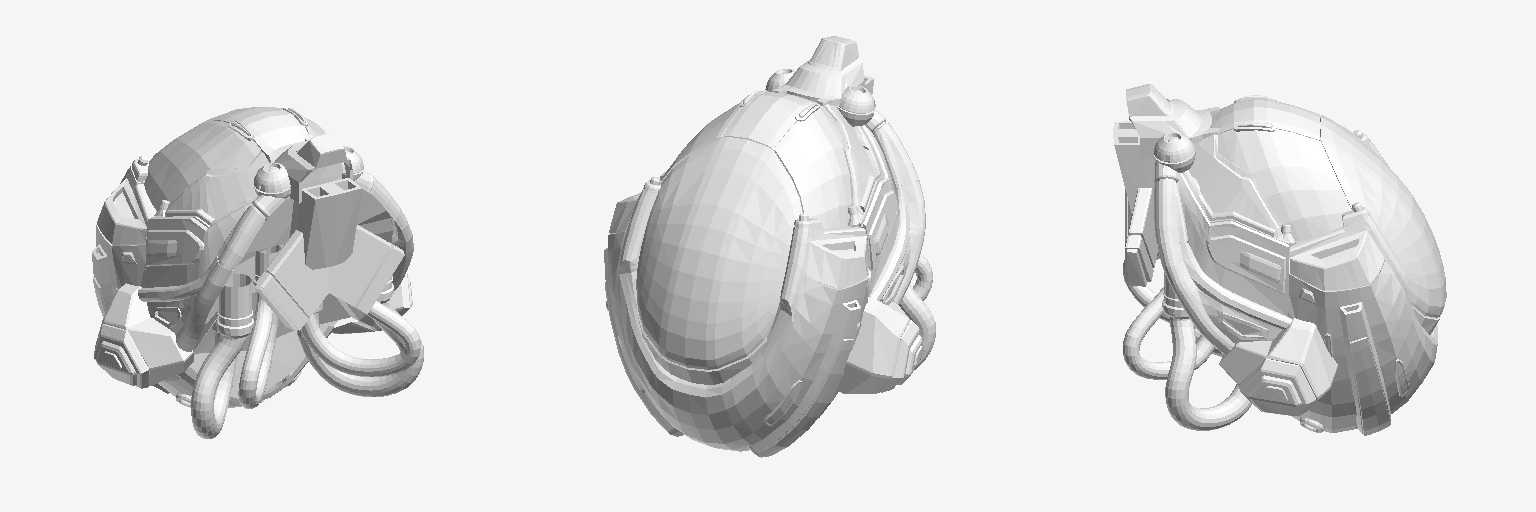
Rendered from helmet.obj.
The picture shows the model from 3 angles: view 1: azimuth 30°, elevation 25°; view 2: azimuth 150°, elevation 25°; view 3: azimuth 270°, elevation 25°; orthographic projection.
Visible parts, largest first — view 1: Helmet_01_Mesh; view 2: Helmet_01_Mesh; view 3: Helmet_01_Mesh.
Boxes of the visible parts, x1,y1,x2,y2 form: Helmet_01_Mesh: [92, 107, 423, 438]; Helmet_01_Mesh: [604, 36, 935, 457]; Helmet_01_Mesh: [1113, 84, 1446, 435].
Size of the model in its own units: 1.89 by 2 by 1.8.